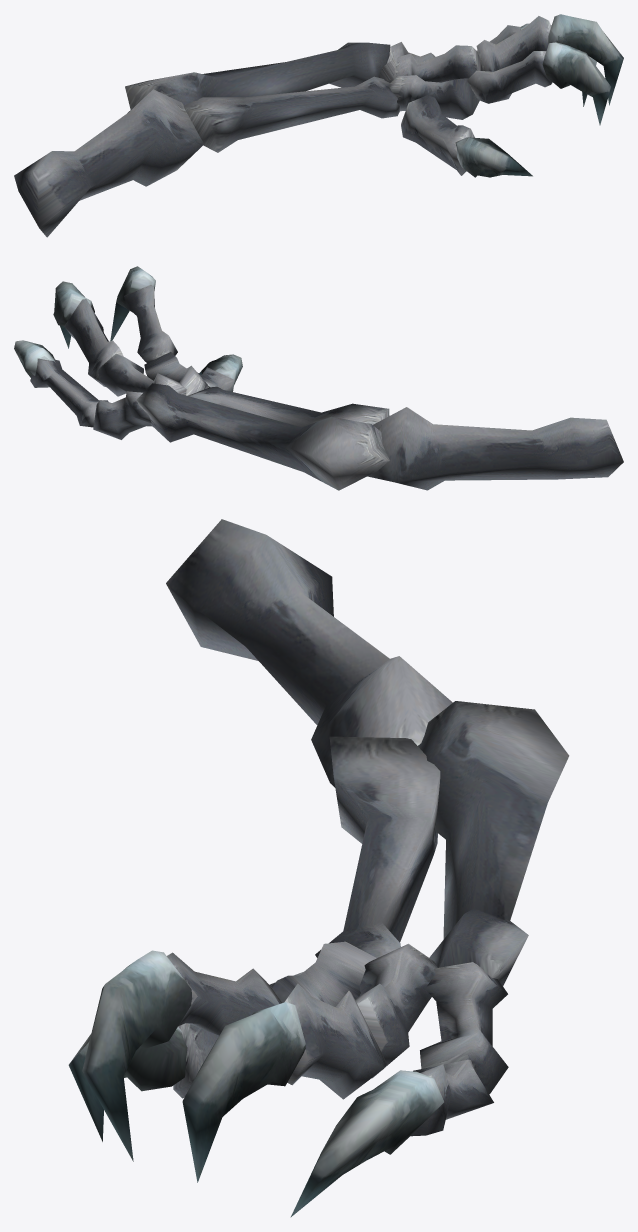
The model's file is db_dragonarmstraight_leftblack.obj.
3 renders of one model, top to bottom at view 1: azimuth 30°, elevation 25°; view 2: azimuth 150°, elevation 25°; view 3: azimuth 270°, elevation 25°, orthographic. The views are drawn at different scales.
Visible parts, largest first — view 1: Geoset0, Geoset1; view 2: Geoset0, Geoset1; view 3: Geoset0, Geoset1.
Boxes of the visible parts, bbox=[...] form: Geoset0: bbox=[14, 16, 552, 237]; Geoset1: bbox=[455, 14, 623, 177]; Geoset0: bbox=[30, 284, 623, 490]; Geoset1: bbox=[14, 266, 242, 391]; Geoset0: bbox=[166, 519, 569, 1136]; Geoset1: bbox=[68, 950, 443, 1217].
Bounding box in the file's own units: 8.39 × 1.59 × 3.16.
2 materials, 2 textured.
